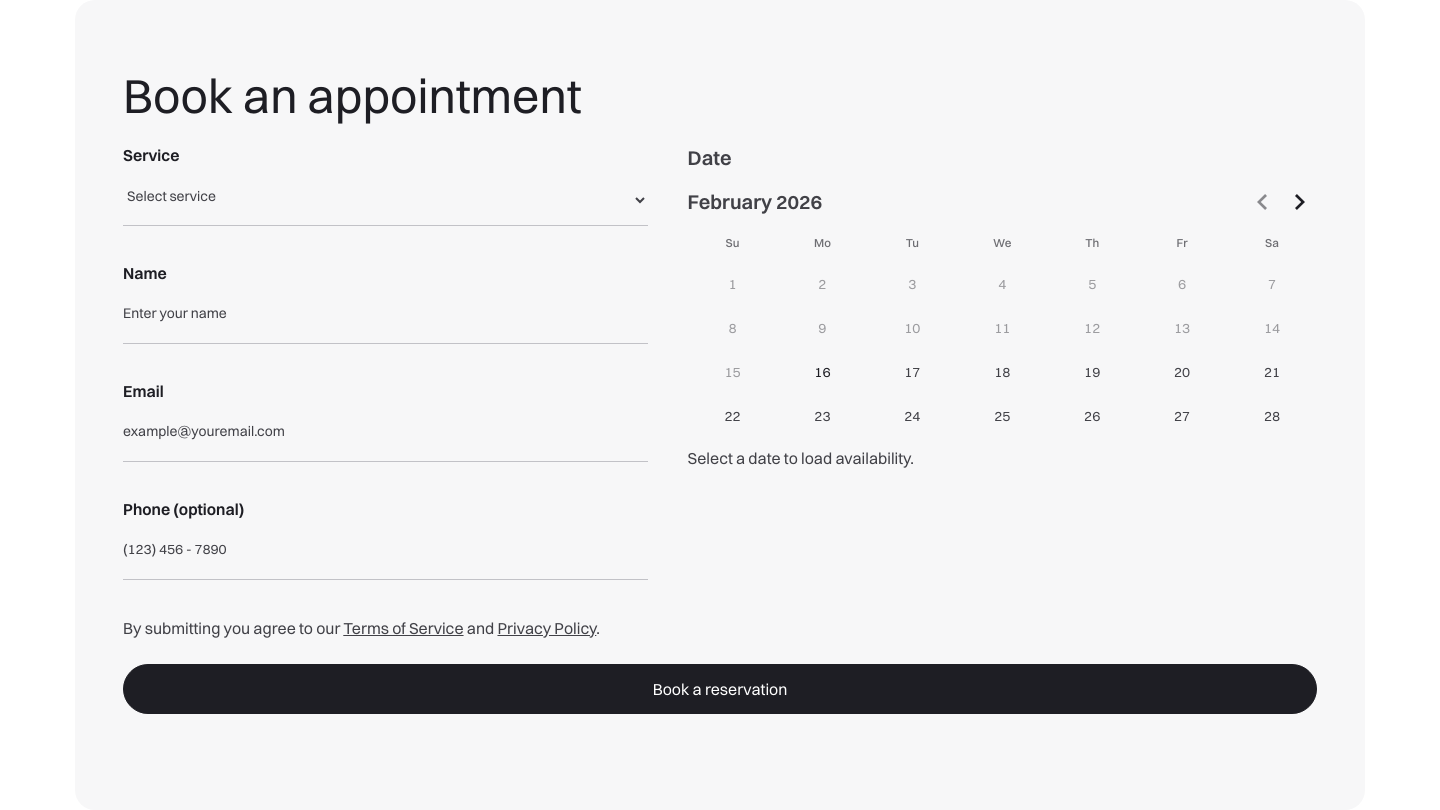
it: Reservation page › greys out times outside working hours
The width and height of the screenshot is (1440, 810).
Type "Jane Doe" into the field labelled "Name" at (385, 318), box [123,292,648,344]
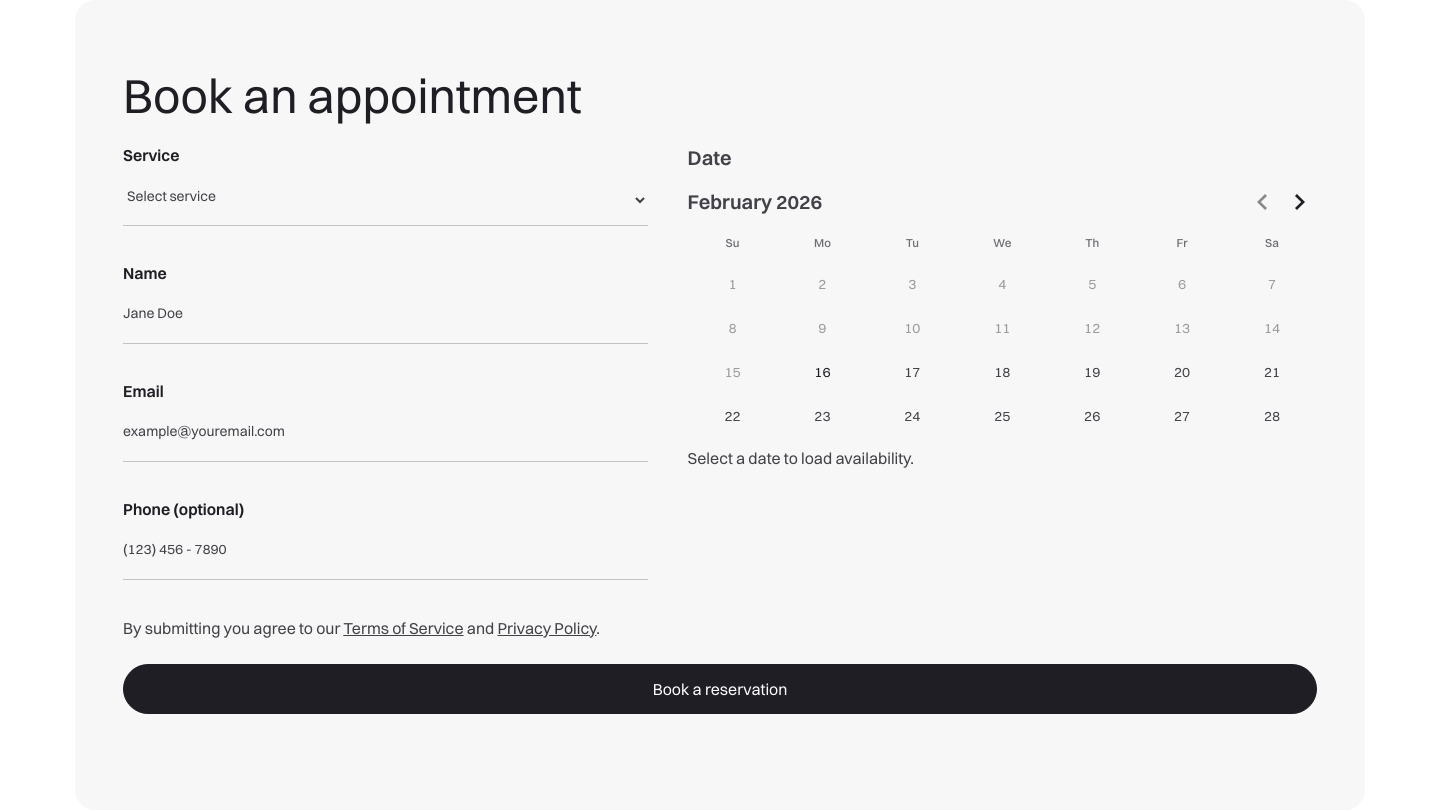
Type "1234567890" into the field labelled "Phone (optional)" at (385, 554), box [123,528,648,580]
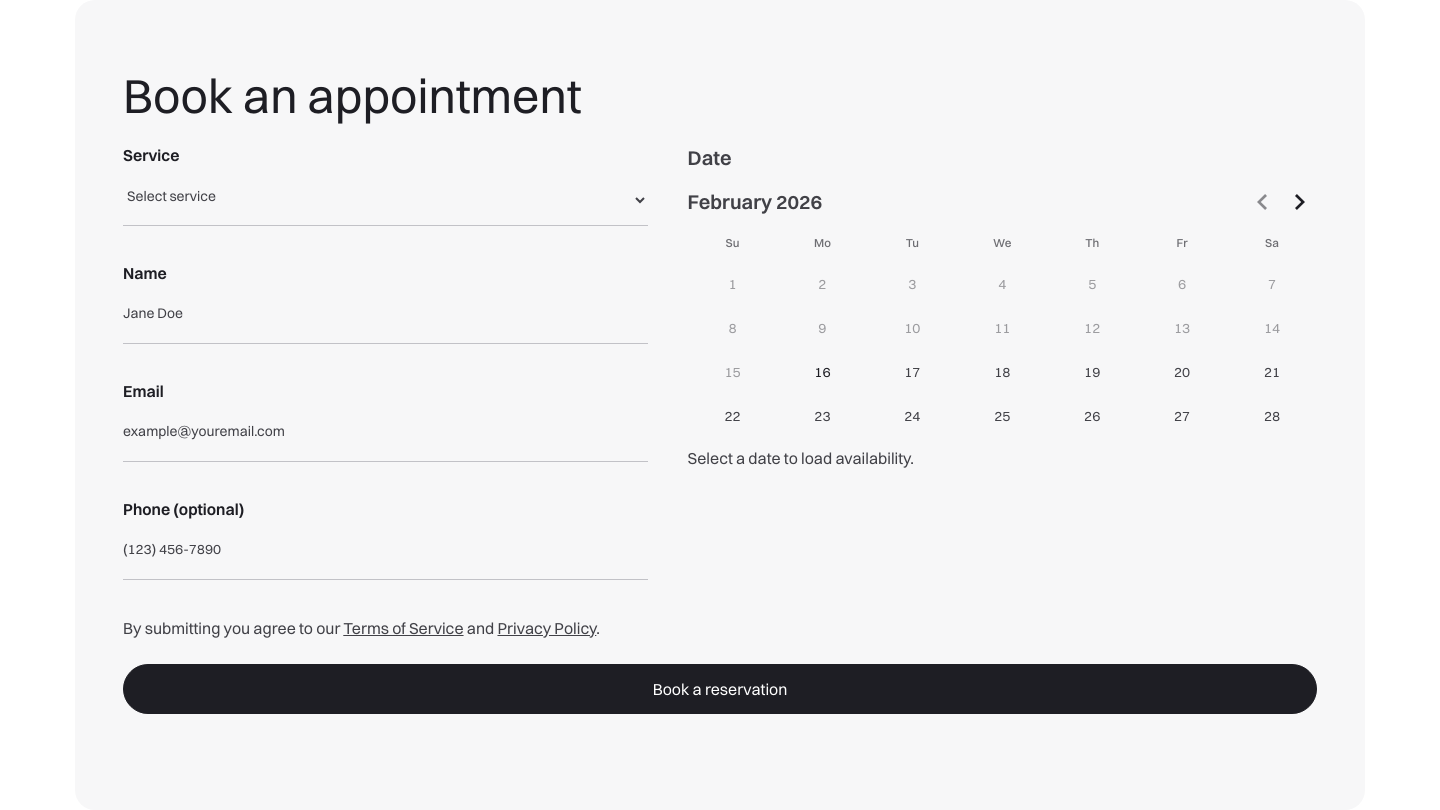
Type "jane@example.com" into the field with placeholder "example@youremail.com" at (385, 436), box [123,410,648,462]
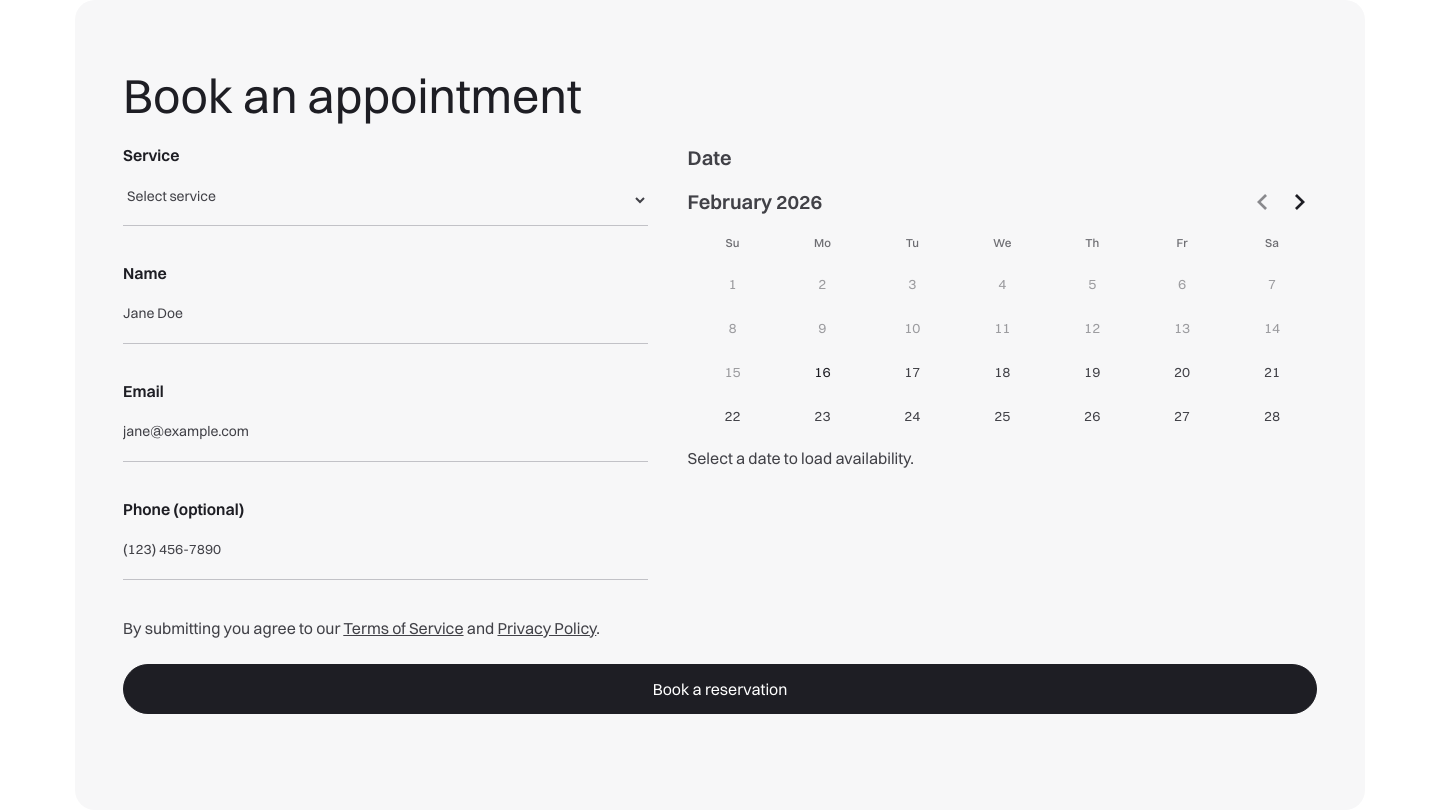
Select "So AfriCal Facial" in the dropdown labelled "Service" at (385, 200), box [123,174,648,226]
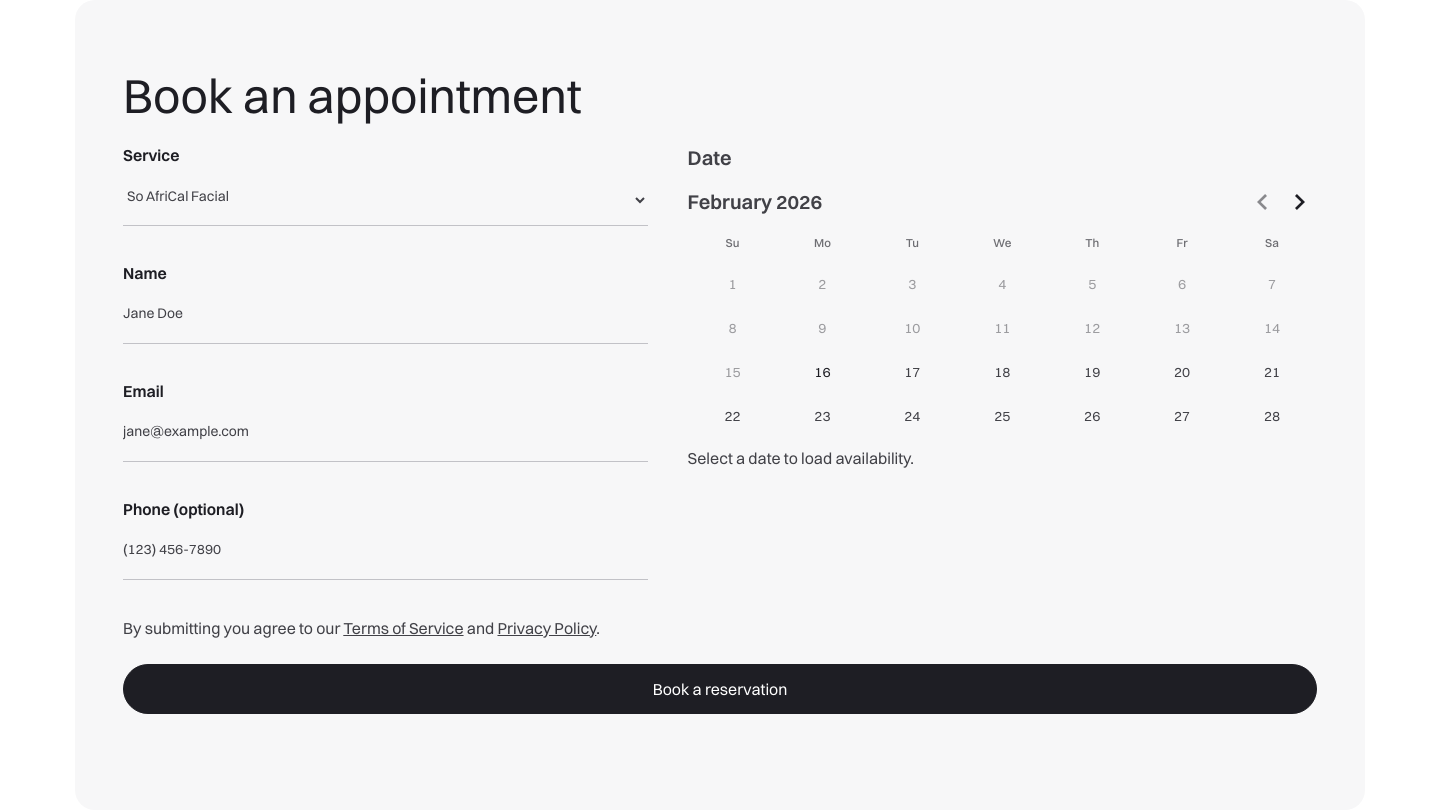
Click the button "17" at (912, 372), box [891,351,933,393]
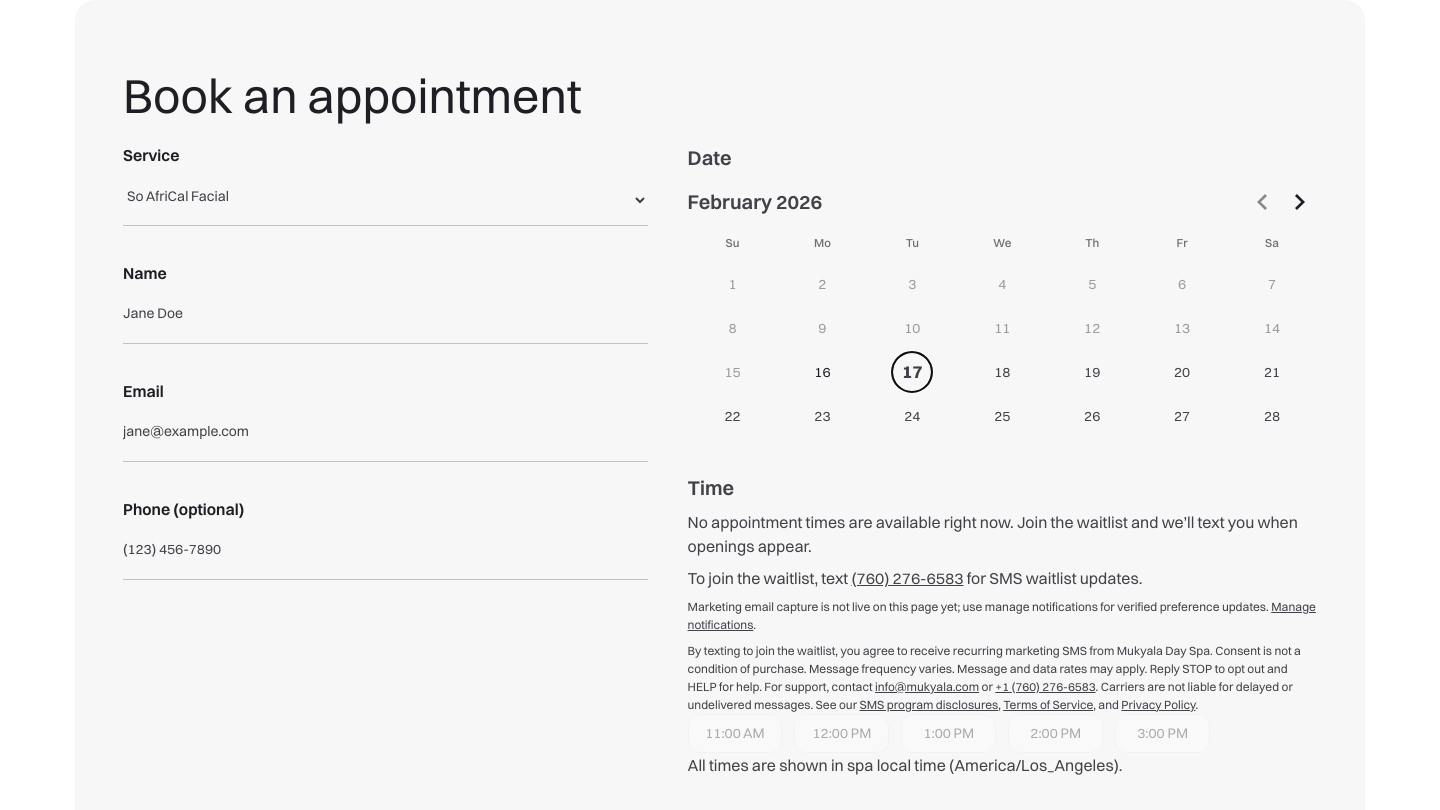
Expected: the button "11:00 AM" is shown, [688,714,782,753]
